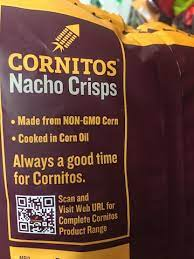qr_code: (14, 194, 60, 237)
